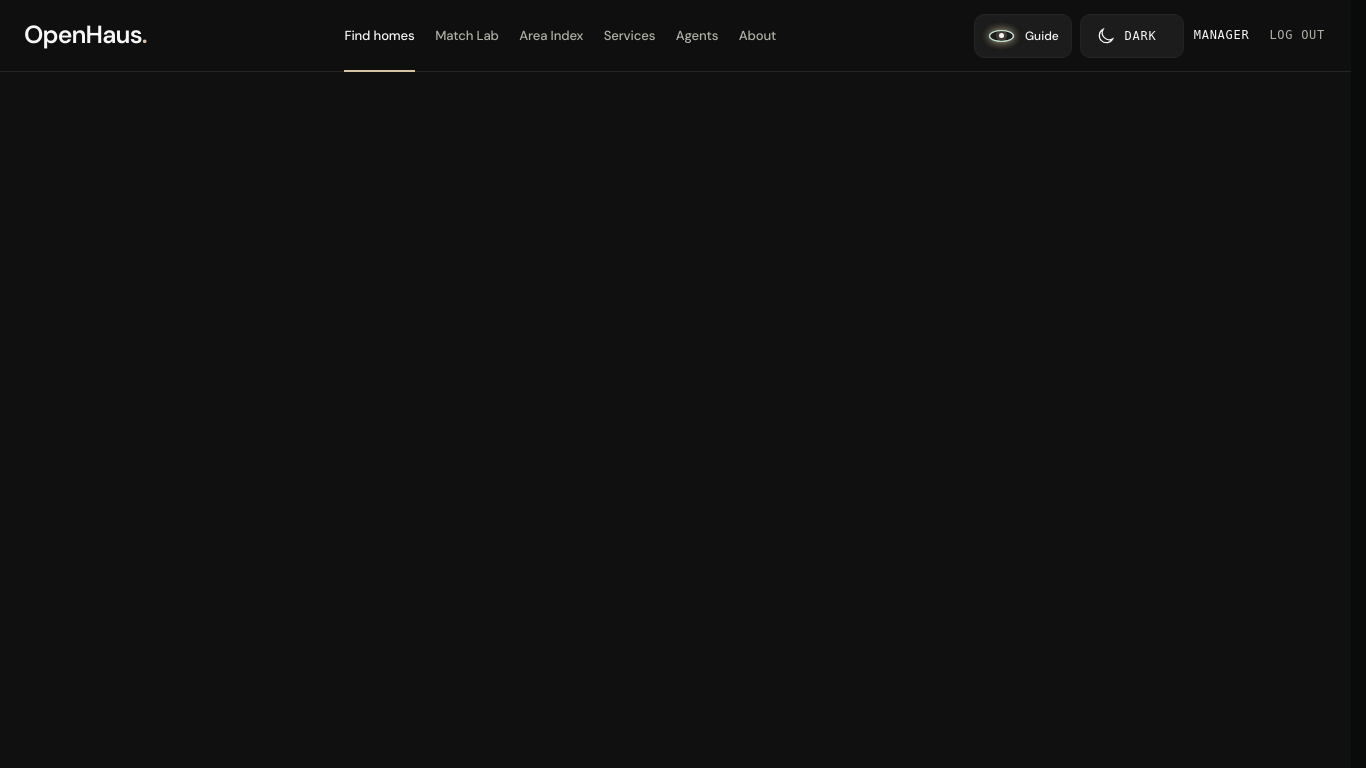
shows manager workspace navigation when a manager session is active
Click the button with aria-label "Manager account options".
click(1222, 36)  # box top-left (1192, 14), bottom-right (1251, 58)
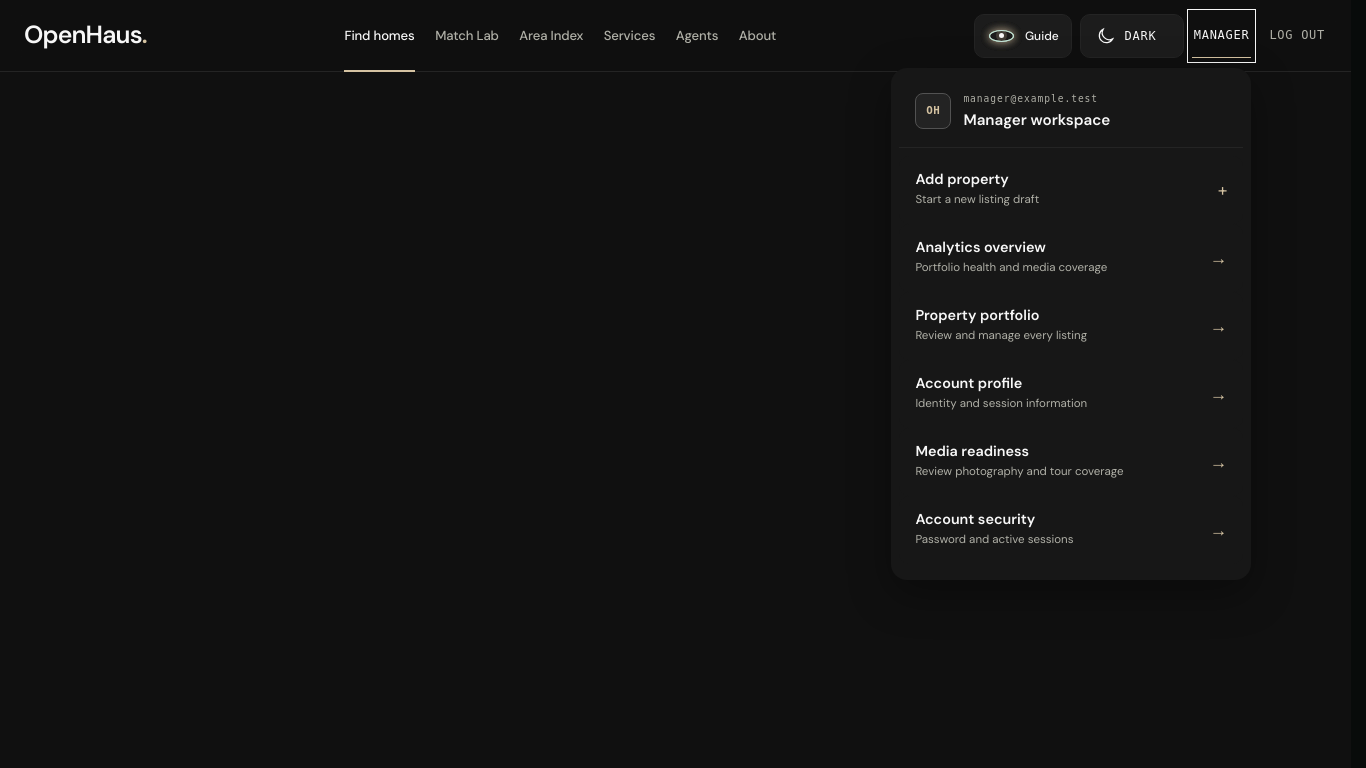
Check: the text "manager@example.test" is shown, box top-left (963, 93), bottom-right (1098, 104)
Click the button "Log out".
click(1297, 36)  # box top-left (1267, 14), bottom-right (1327, 58)
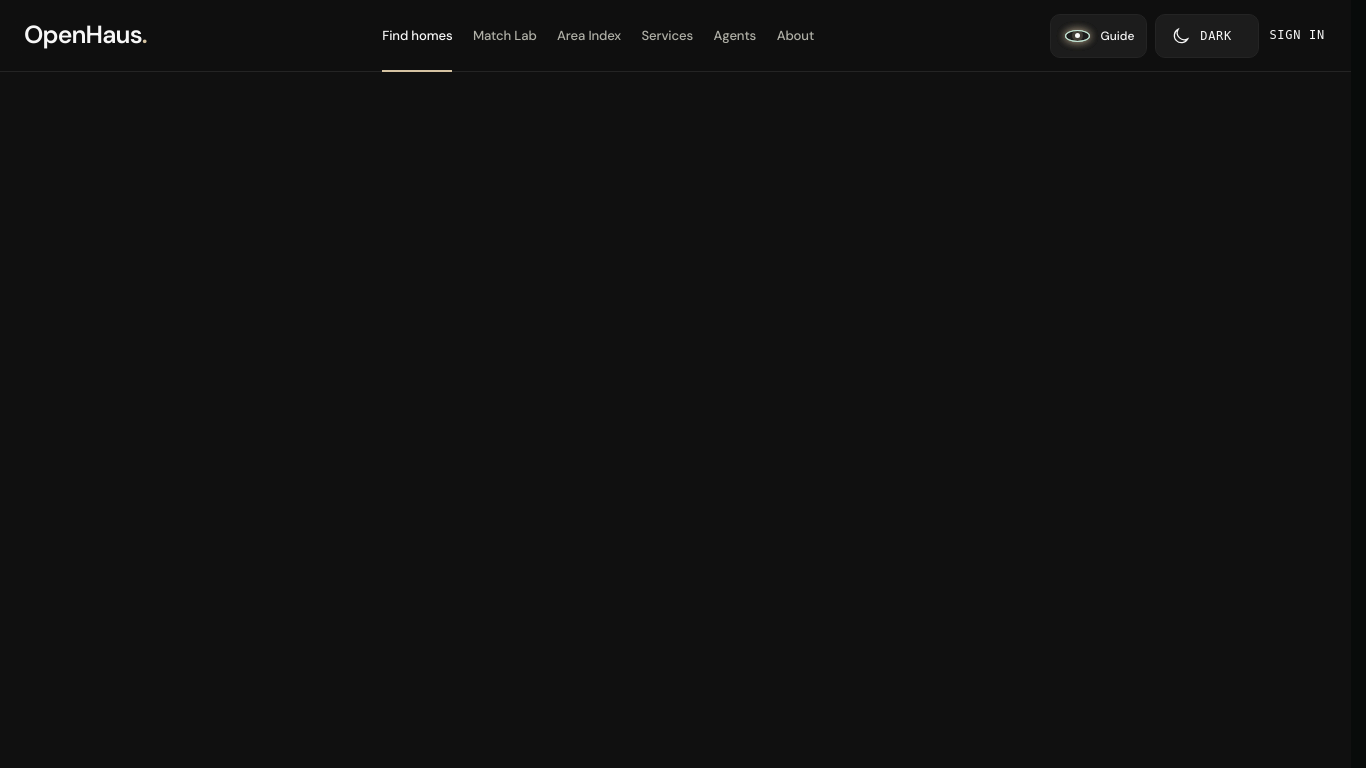
Check: the button with aria-label "Sign in options" is shown, box top-left (1267, 14), bottom-right (1327, 58)
